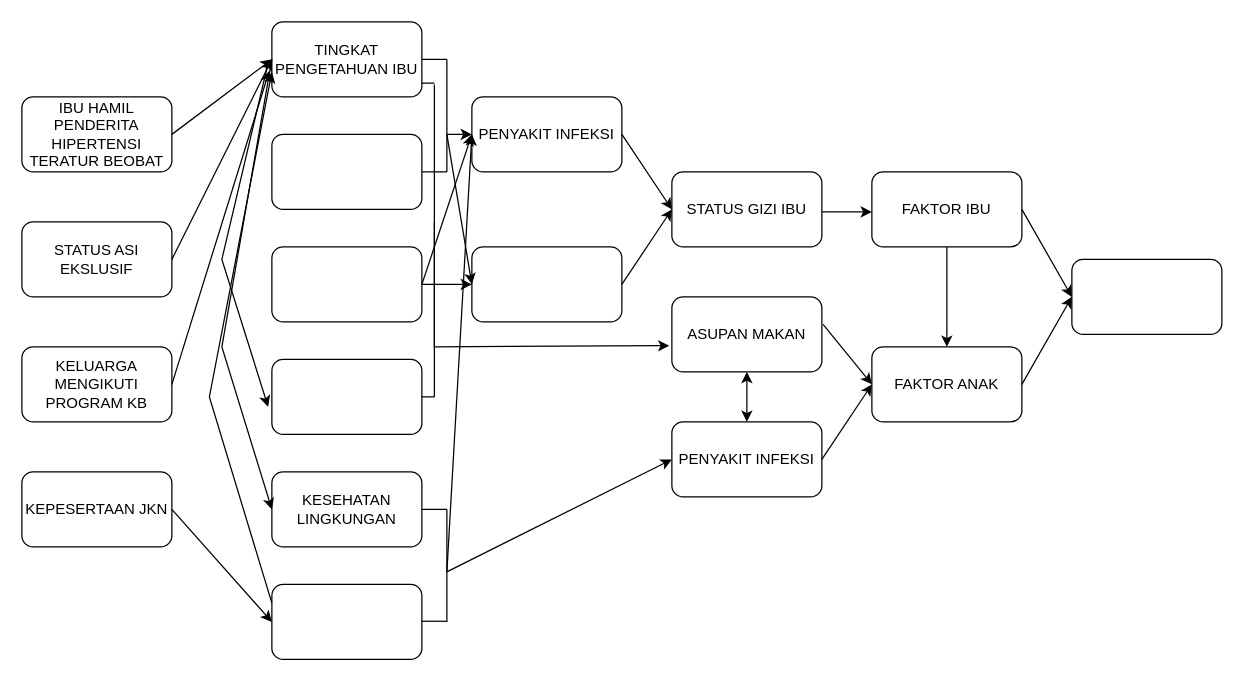
This 1244x681 diagram has some shape labels left out. Here are the shapes that lost their labels. From the top down, the box of each, then its label:
(271, 133, 422, 209): PENDAPATAN KELUARGA
(271, 246, 422, 322): KETAHANAN PANGAN
(471, 246, 622, 322): ASUPAN MAKANAN
(1071, 258, 1222, 334): STUNTING
(271, 358, 422, 434): POLA ASUH
(271, 583, 422, 659): LAYANAN KESEHATAN
